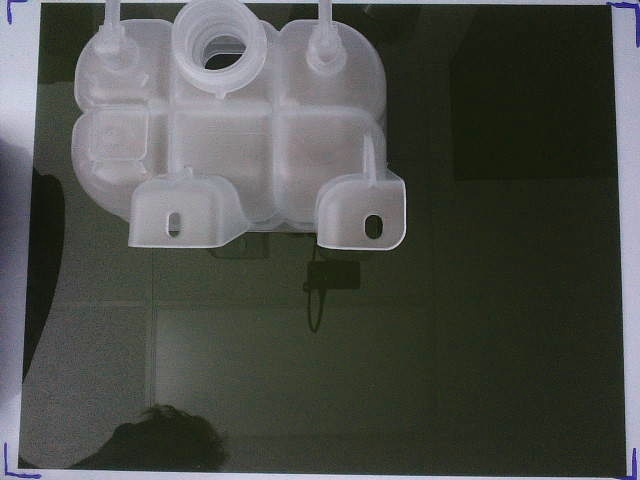reservoir_transparent_Top: (71, 1, 408, 252)
